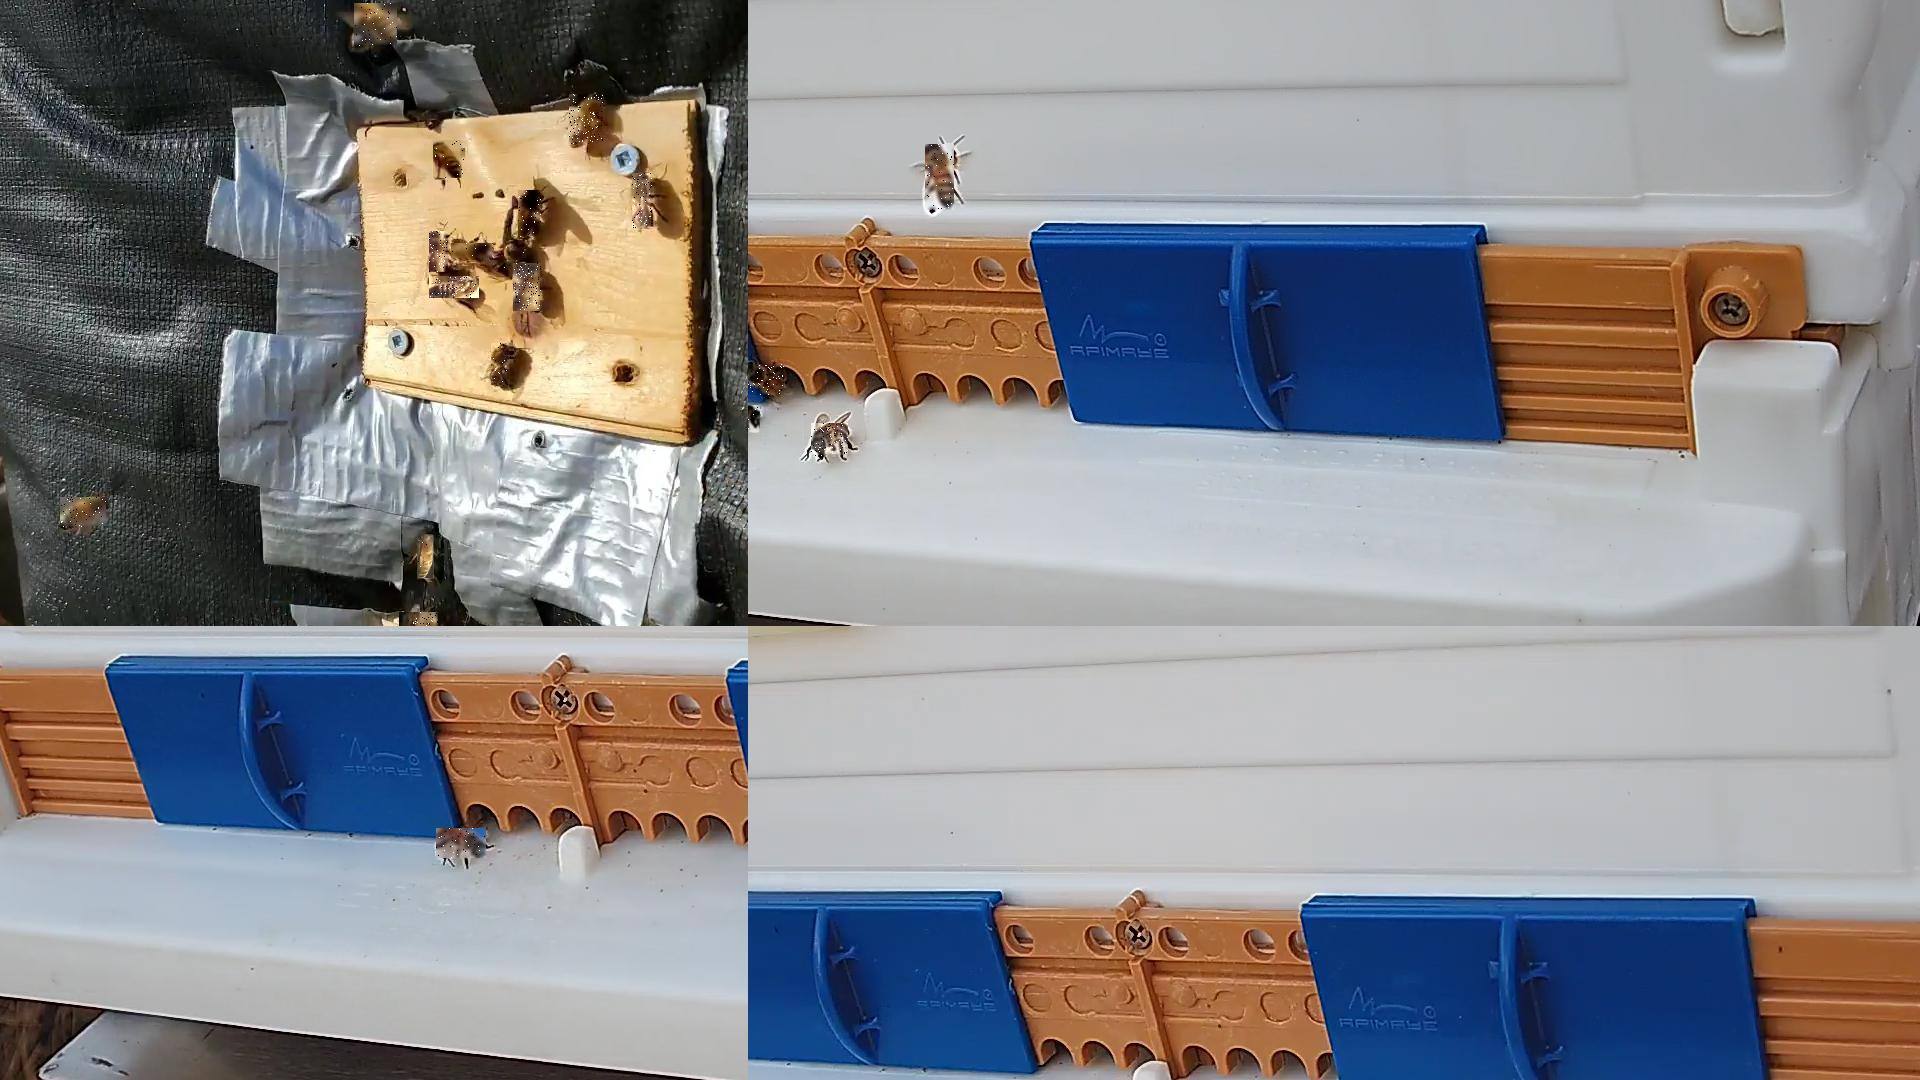bee: (924, 145, 955, 212), (353, 4, 398, 47), (570, 95, 604, 146), (436, 828, 487, 858), (61, 497, 107, 529), (514, 264, 543, 313), (811, 423, 849, 458), (748, 364, 786, 397), (434, 140, 465, 179), (633, 173, 654, 229), (430, 276, 480, 299), (520, 191, 543, 239), (492, 343, 514, 386), (418, 535, 438, 583), (430, 231, 448, 273), (504, 239, 526, 272), (452, 244, 495, 261), (400, 612, 440, 625), (748, 405, 762, 433)
